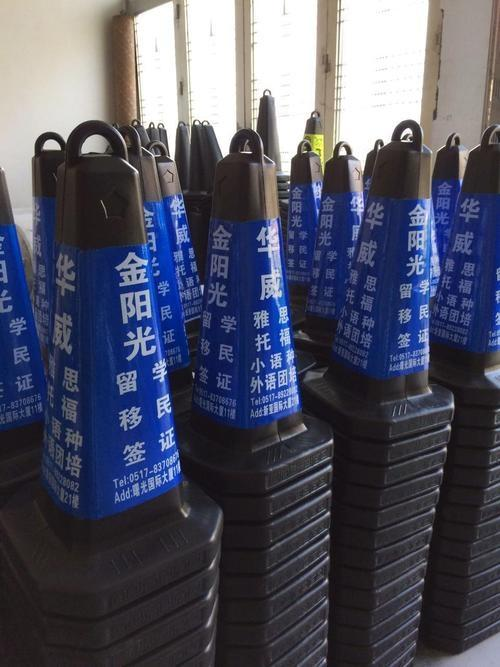cone_barrel: (31, 129, 190, 544), (186, 117, 317, 456), (323, 124, 444, 412), (425, 132, 498, 389), (284, 140, 322, 300)
